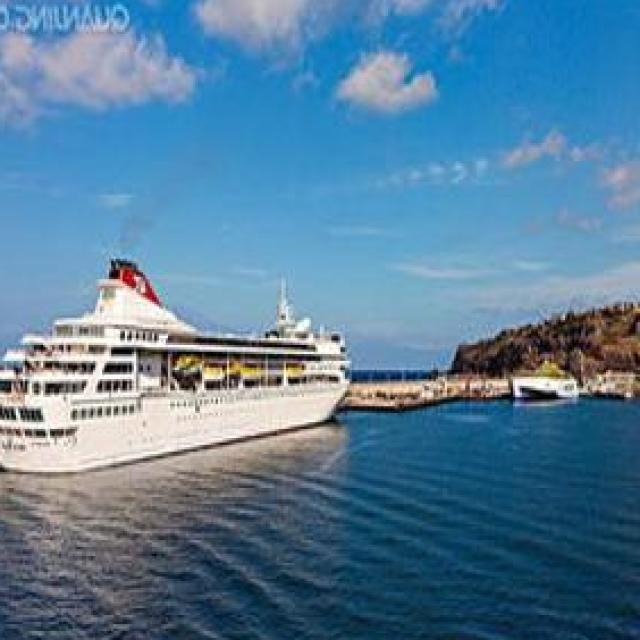navalvessels: (0, 261, 354, 477)
